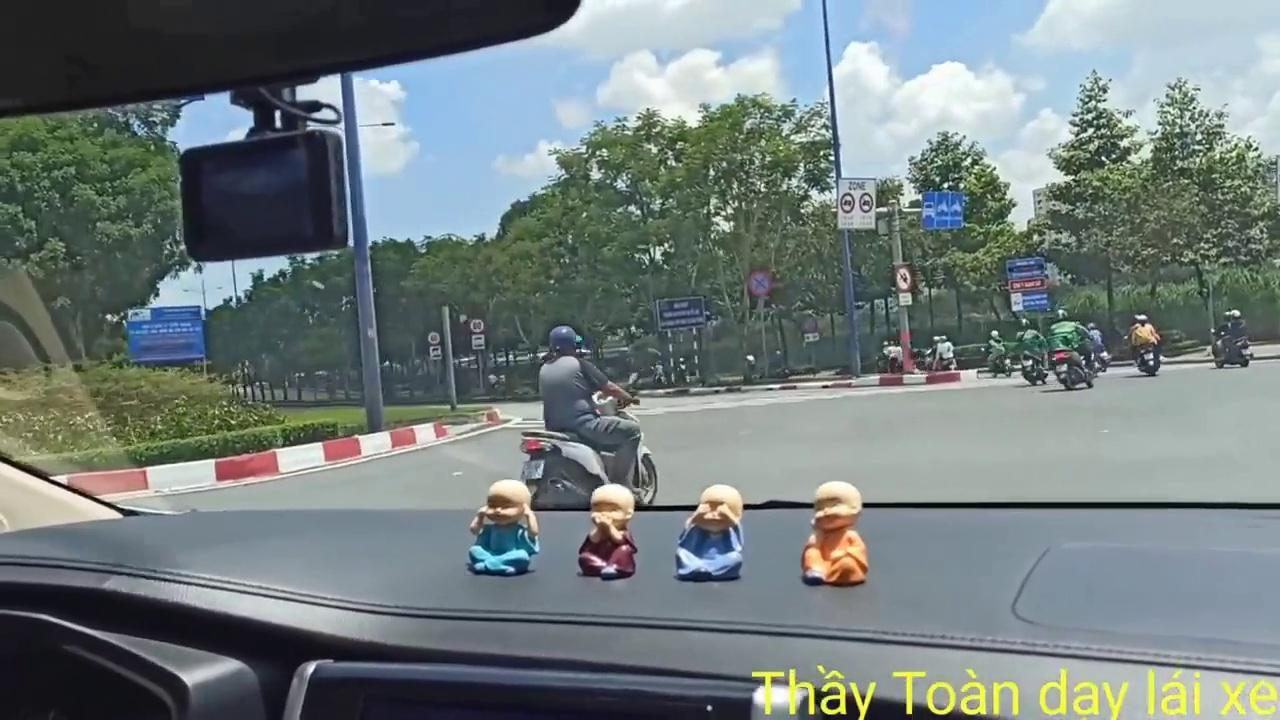Biển phụ: (472, 334, 486, 350), (429, 347, 443, 358)
Cấm cac phương tiện hoạt động trong khung giờ cố định: (835, 176, 878, 230)
Cấm dừng - Cấm đỗ: (748, 268, 772, 298)
Cấm xe máy: (892, 264, 914, 292)
GIơi hạn tốc độ 60Km/h: (428, 328, 441, 345)
Giới hạn tốc độ 80Km/h: (470, 317, 486, 333)
Khác: (125, 306, 207, 362), (1004, 255, 1051, 312)
Làn đường cho từng xe: (920, 190, 965, 232)
